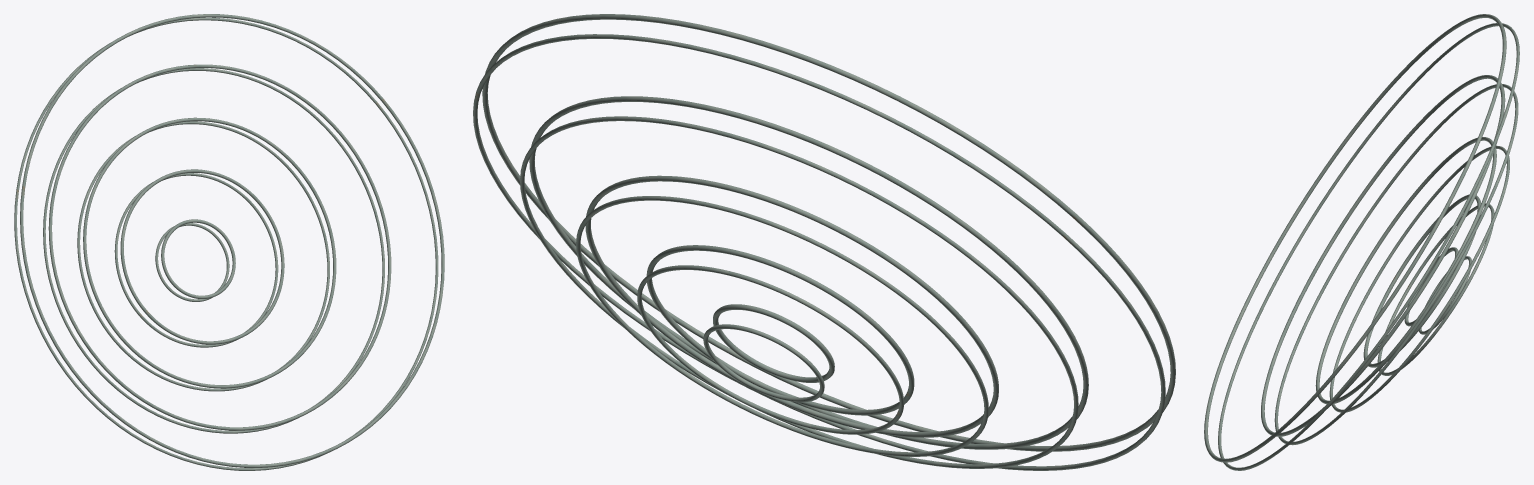
Rendered from Rear_Hoops.glb.
The picture shows the model from 3 angles, left to right: view 1: azimuth 30°, elevation 25°; view 2: azimuth 150°, elevation 25°; view 3: azimuth 270°, elevation 25°; orthographic projection. The views are drawn at different scales.
Parts seen in each view (by area): view 1: Rear_Hoops; view 2: Rear_Hoops; view 3: Rear_Hoops.
Part boxes in pixels (x1,y1,x2,y2): Rear_Hoops: (14,14,444,470); Rear_Hoops: (473,14,1175,470); Rear_Hoops: (1204,14,1519,470).
Size of the model in its own units: 23.78 by 19.92 by 14.31.
Materials: 1 (1 with a texture image).
